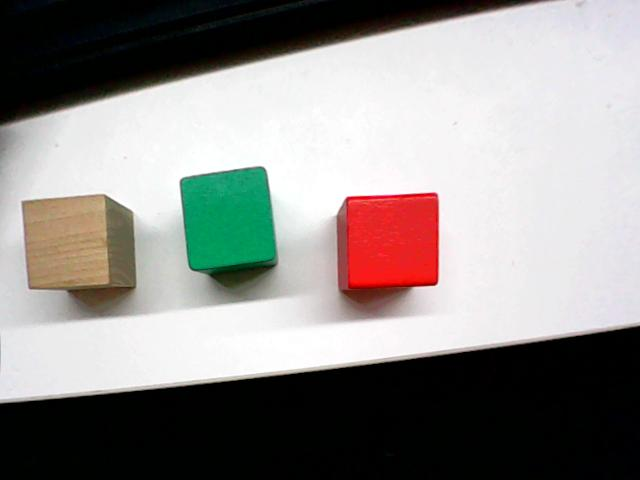green_box: (176, 162, 280, 277)
raw_box: (19, 191, 140, 298)
red_box: (333, 187, 443, 294)
